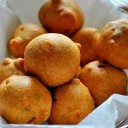bonda: (24, 35, 81, 84), (1, 77, 50, 123), (52, 80, 95, 122), (38, 1, 85, 31), (102, 18, 128, 69)
